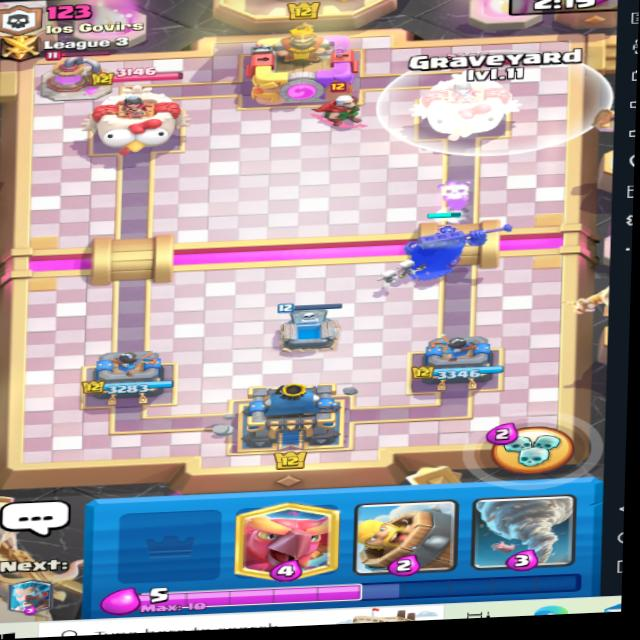elixir-collector: (31, 45, 117, 103)
magic-archer: (301, 80, 380, 137)
